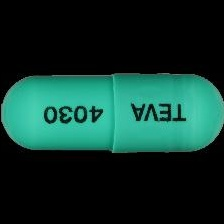0093-4030: (0, 0, 224, 224)
